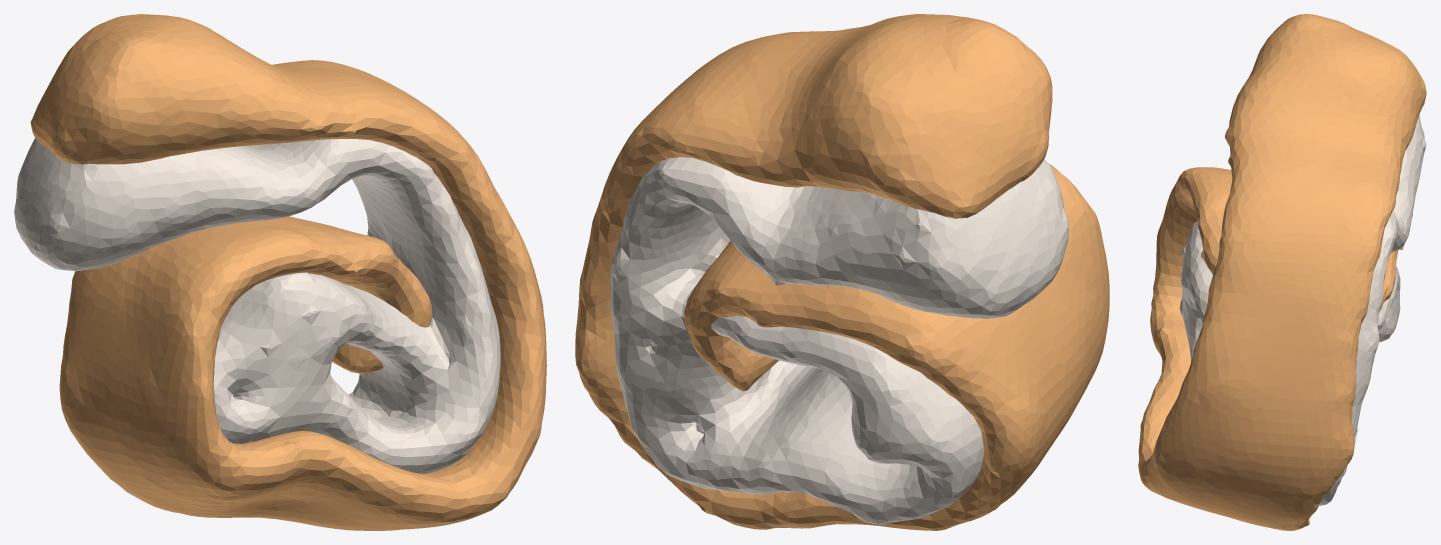
File: hkw_roll.obj
The picture shows the model from 3 angles, left to right: view 1: azimuth 30°, elevation 25°; view 2: azimuth 150°, elevation 25°; view 3: azimuth 270°, elevation 25°; orthographic projection. The views are drawn at different scales.
Size of the model in its own units: 0.2378 by 0.2678 by 0.1668.
